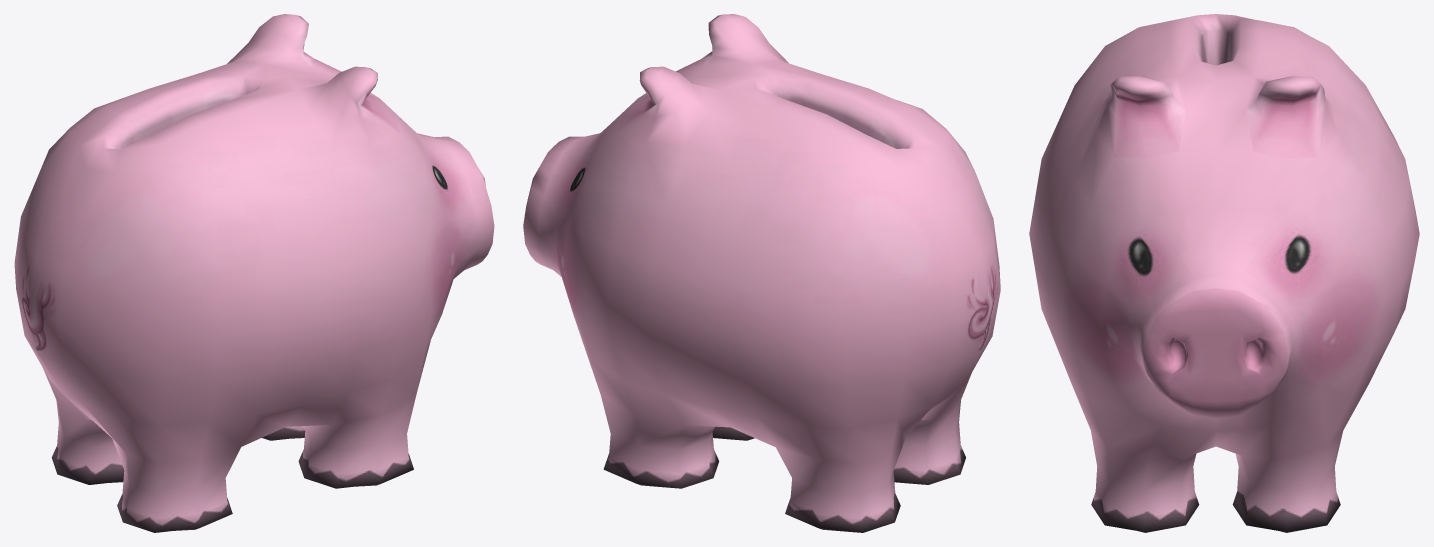
File: piggy.DAE
3 views of the same model, side by side, from view 1: azimuth 30°, elevation 25°; view 2: azimuth 150°, elevation 25°; view 3: azimuth 270°, elevation 25° (orthographic). The views are drawn at different scales.
Parts seen in each view (by area): view 1: default; view 2: default; view 3: default.
Boxes of the visible parts, <box> form: default: <box>14,14,494,532</box>; default: <box>523,14,1000,532</box>; default: <box>1029,14,1419,532</box>.
Size of the model in its own units: 171 by 123 by 152.
1 material, 1 textured.
